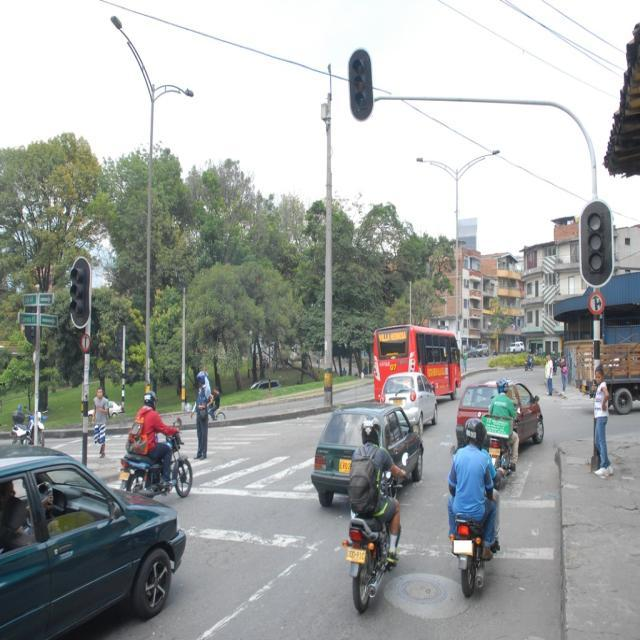off traffic light: (579, 197, 614, 288), (347, 46, 375, 121), (68, 256, 91, 329)
road_sign: (584, 291, 606, 315)
